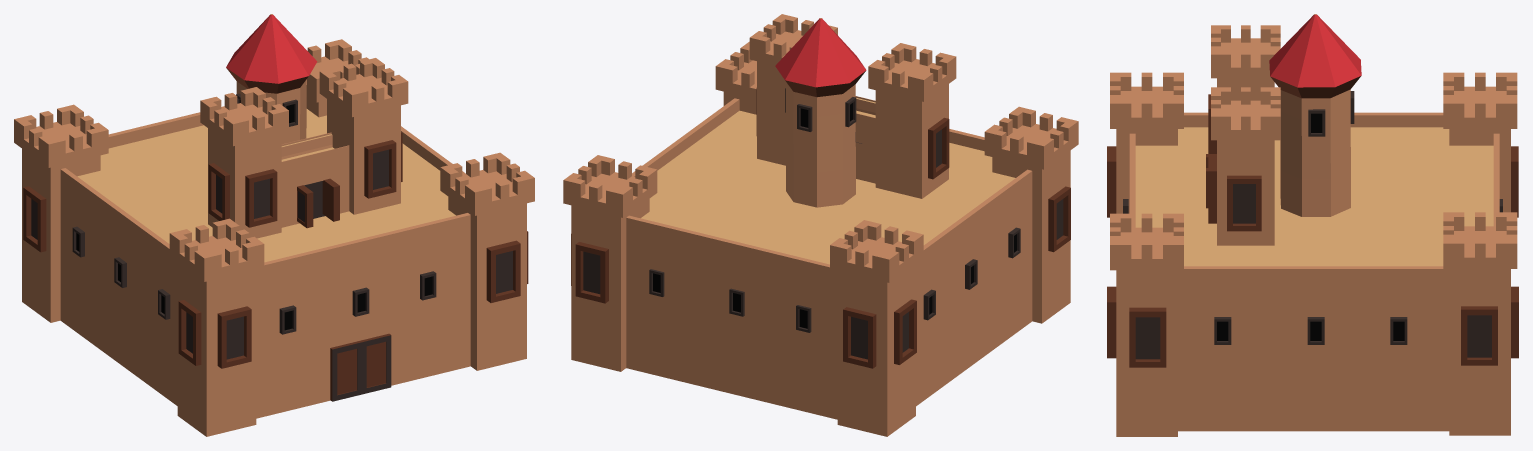
The model's file is level5.fbx.
3 views of the same model, side by side, from view 1: azimuth 30°, elevation 25°; view 2: azimuth 150°, elevation 25°; view 3: azimuth 270°, elevation 25° (orthographic). The views are drawn at different scales.
Visible parts, largest first — view 1: Cube.001; view 2: Cube.001; view 3: Cube.001.
Part boxes in pixels (left/top/right/bottom): Cube.001: left=14, top=14, right=534, bottom=436; Cube.001: left=563, top=14, right=1078, bottom=436; Cube.001: left=1107, top=14, right=1518, bottom=436.
Size of the model in its own units: 1335 by 1208 by 1335.
